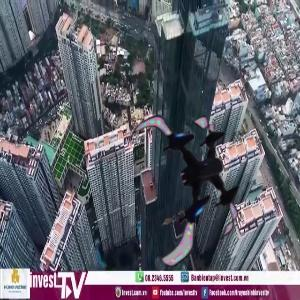drone: (115, 103, 263, 251)
